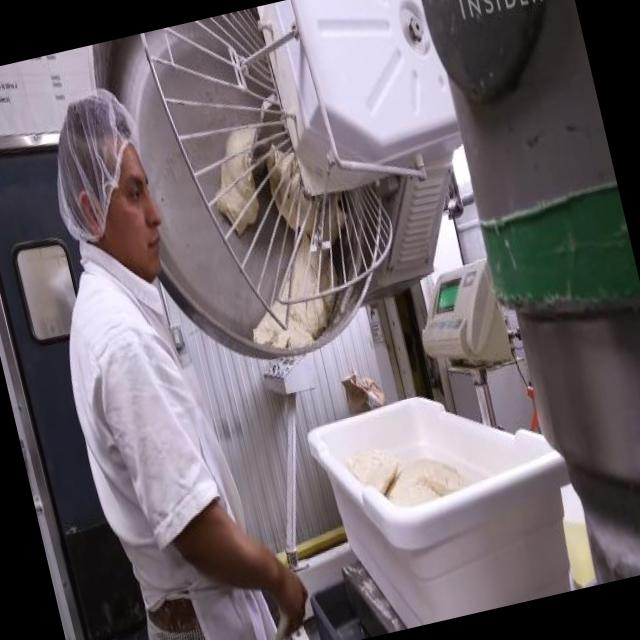hairnet: (40, 85, 147, 216)
